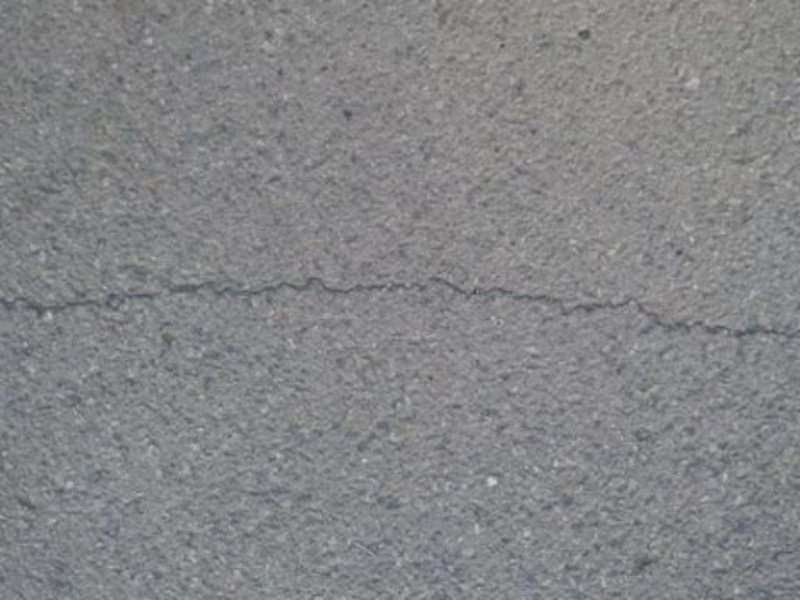crack: (17, 252, 788, 404)
